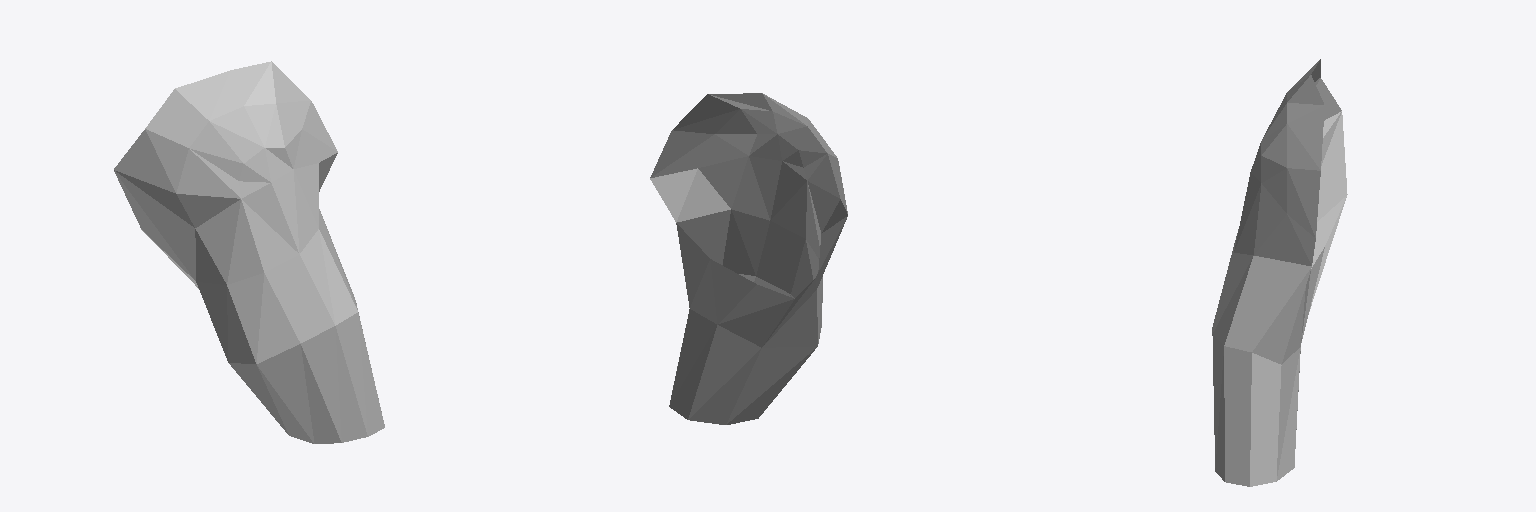
The model's file is VeloHombroIzq.obj.
The picture shows the model from 3 angles: view 1: azimuth 30°, elevation 25°; view 2: azimuth 150°, elevation 25°; view 3: azimuth 270°, elevation 25°; orthographic projection.
Parts seen in each view (by area): view 1: VeloHombroIzq:null_; view 2: VeloHombroIzq:null_; view 3: VeloHombroIzq:null_.
Part boxes in pixels (bbox=[...]): VeloHombroIzq:null_: bbox=[114, 61, 384, 443]; VeloHombroIzq:null_: bbox=[650, 93, 847, 424]; VeloHombroIzq:null_: bbox=[1212, 59, 1347, 486].
Size of the model in its own units: 0.3345 by 0.5067 by 0.1756.